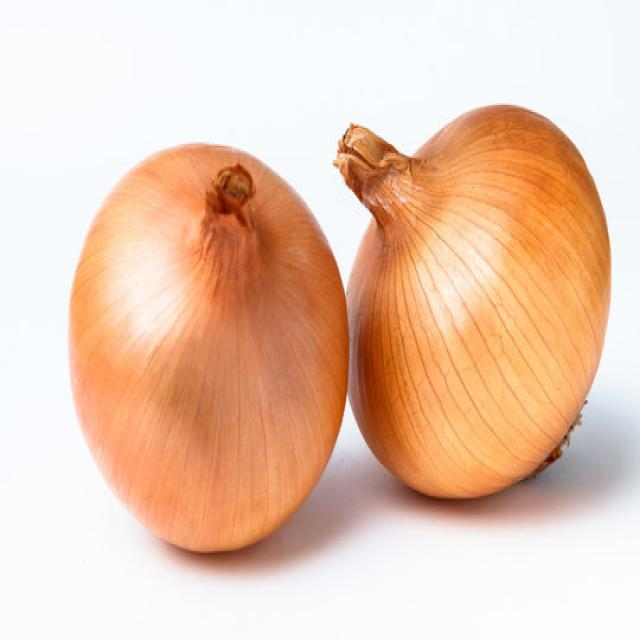Onion: (66, 140, 350, 554), (332, 102, 611, 500)
